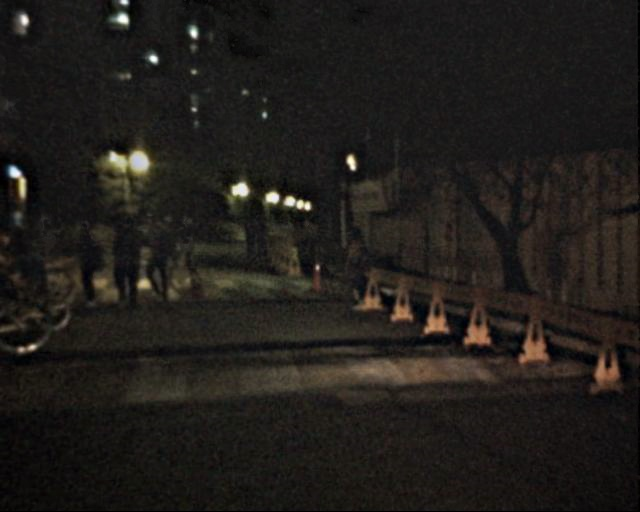person: (22, 209, 62, 307), (137, 210, 172, 295), (338, 225, 373, 310), (72, 213, 105, 294), (114, 218, 147, 299), (177, 211, 200, 268), (160, 212, 182, 265), (237, 214, 256, 261), (251, 221, 267, 259)
